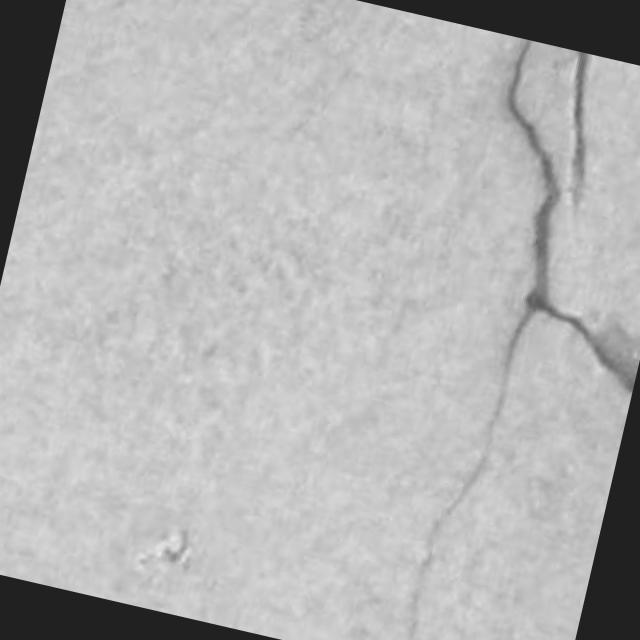crack: (407, 39, 639, 639), (407, 39, 561, 639), (571, 52, 591, 204)
